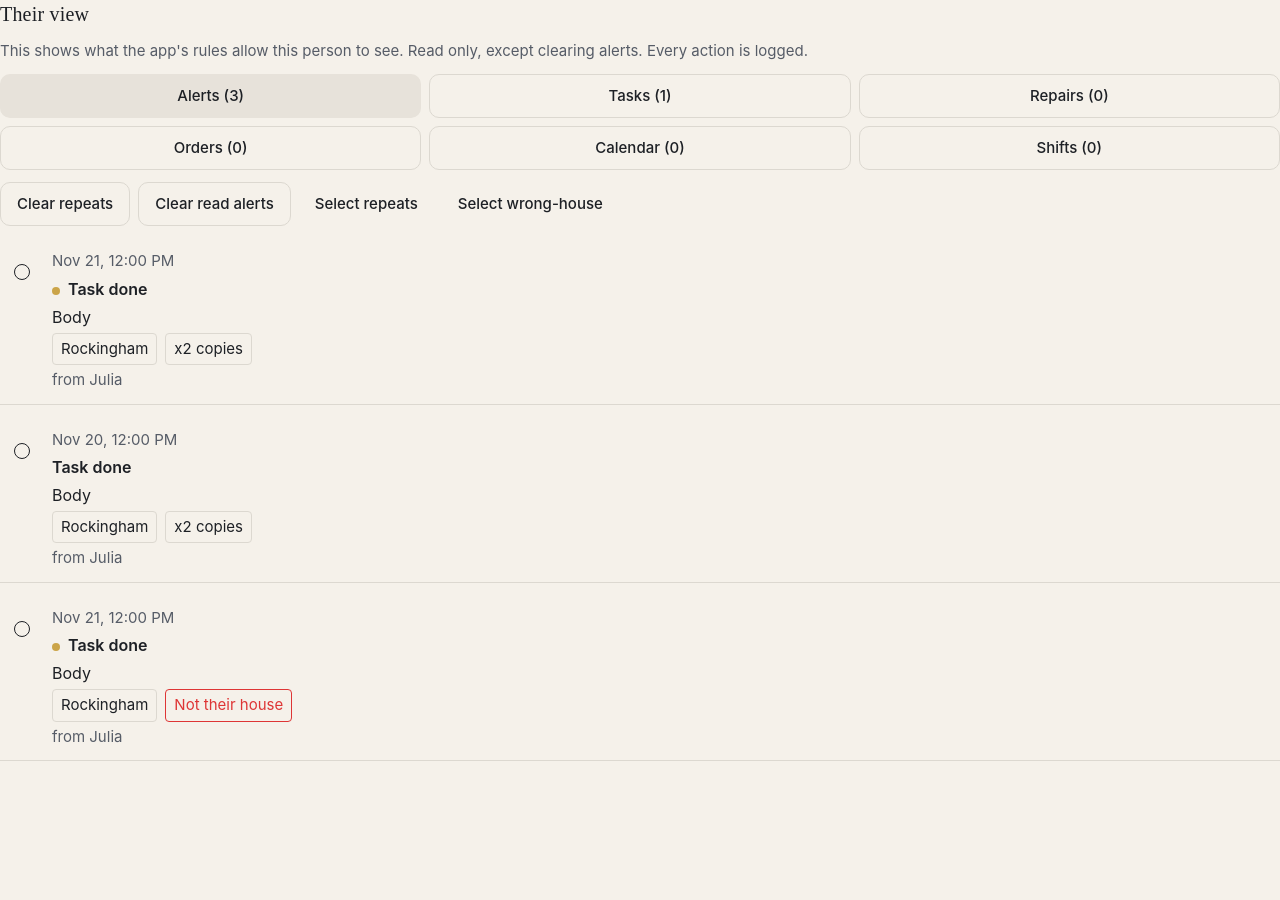
it: Their view › confirms Clear read alerts and calls only its RPC
Later steps or results of the test are not shown.
Expected: the tab "Alerts (3)" is shown, [0, 74, 421, 118]
Click the button "Clear read alerts": coordinates (214, 204) [138, 182, 291, 226]
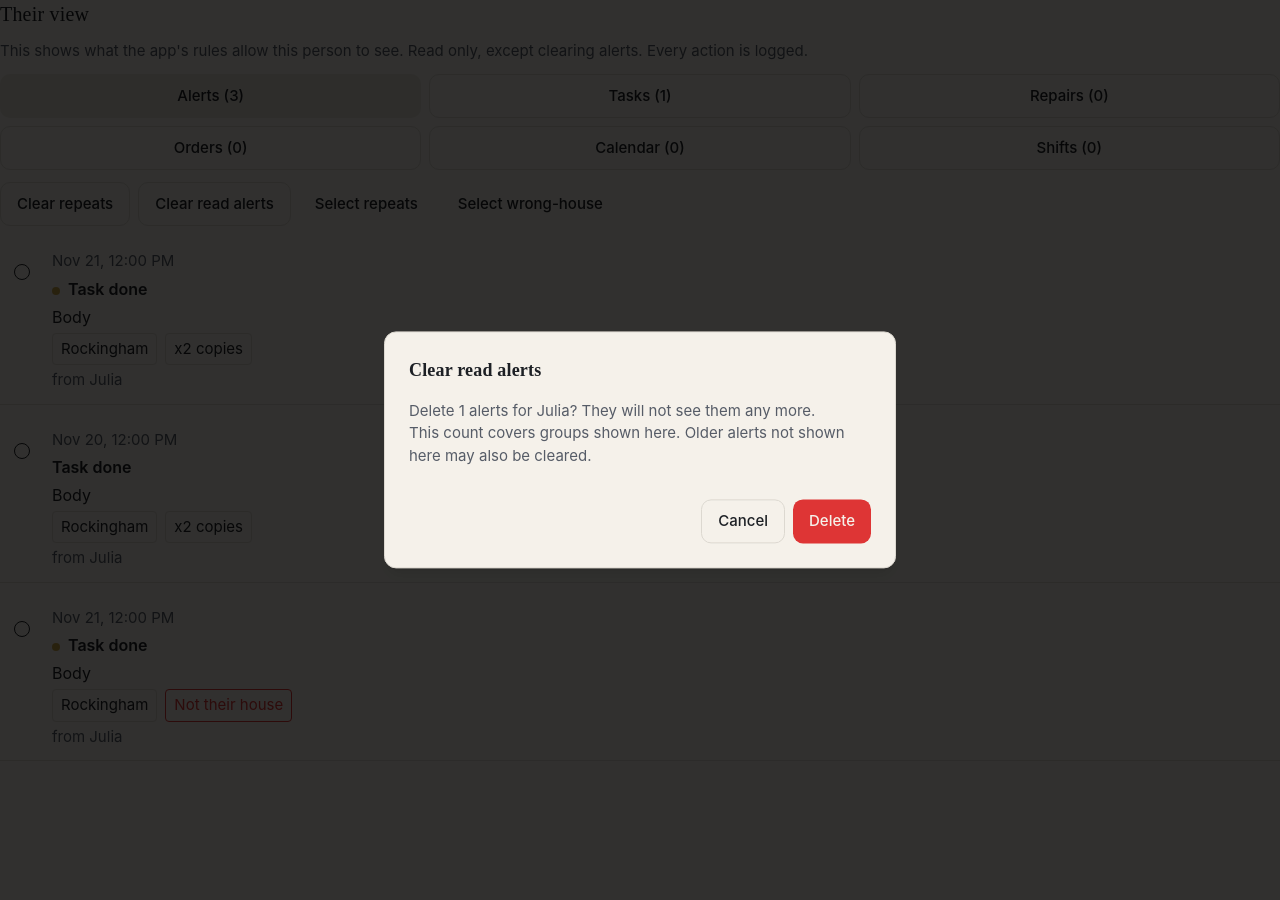
Now the dialog shows "Delete 1 alerts for Julia?", box [409, 401, 815, 420]
